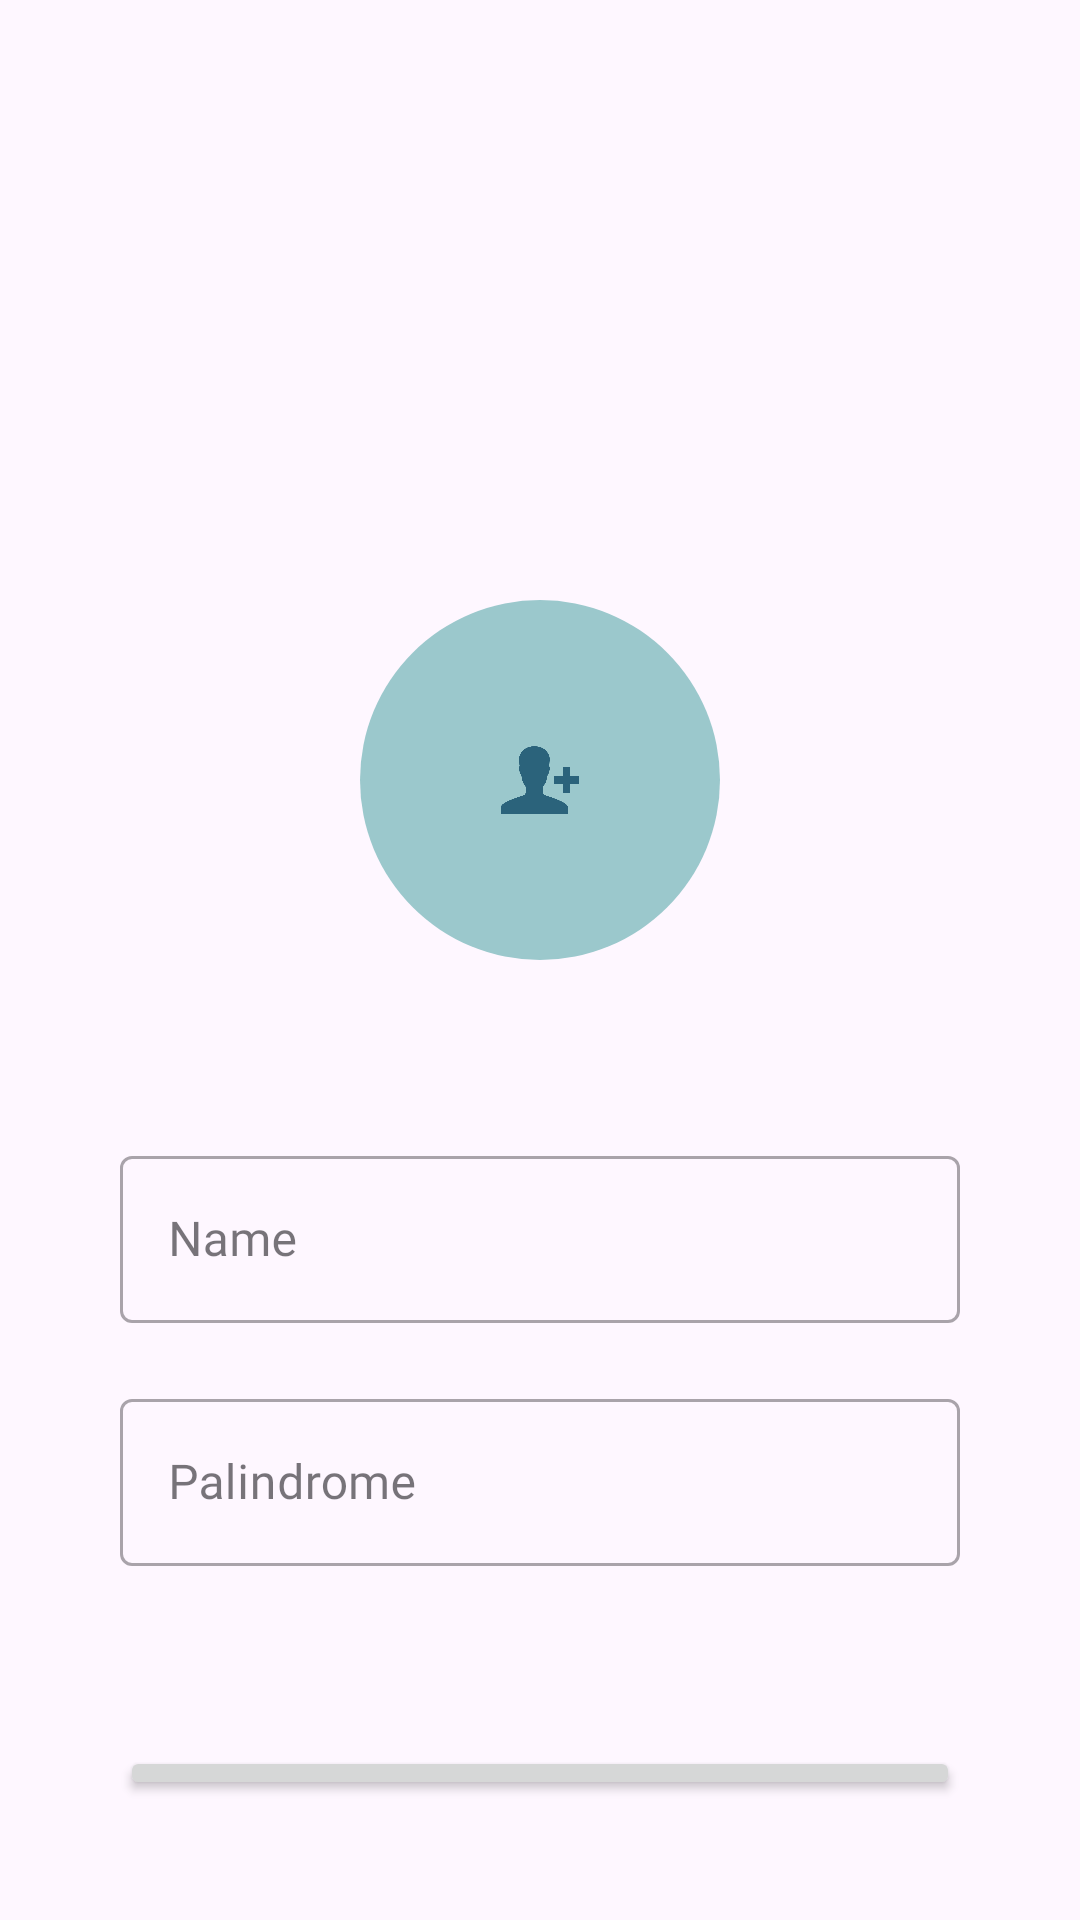

Icons on this 1080 x 1920 Android screen, each with its box as (x1,y1,x2,y2):
adduser: (501,746,579,814)
